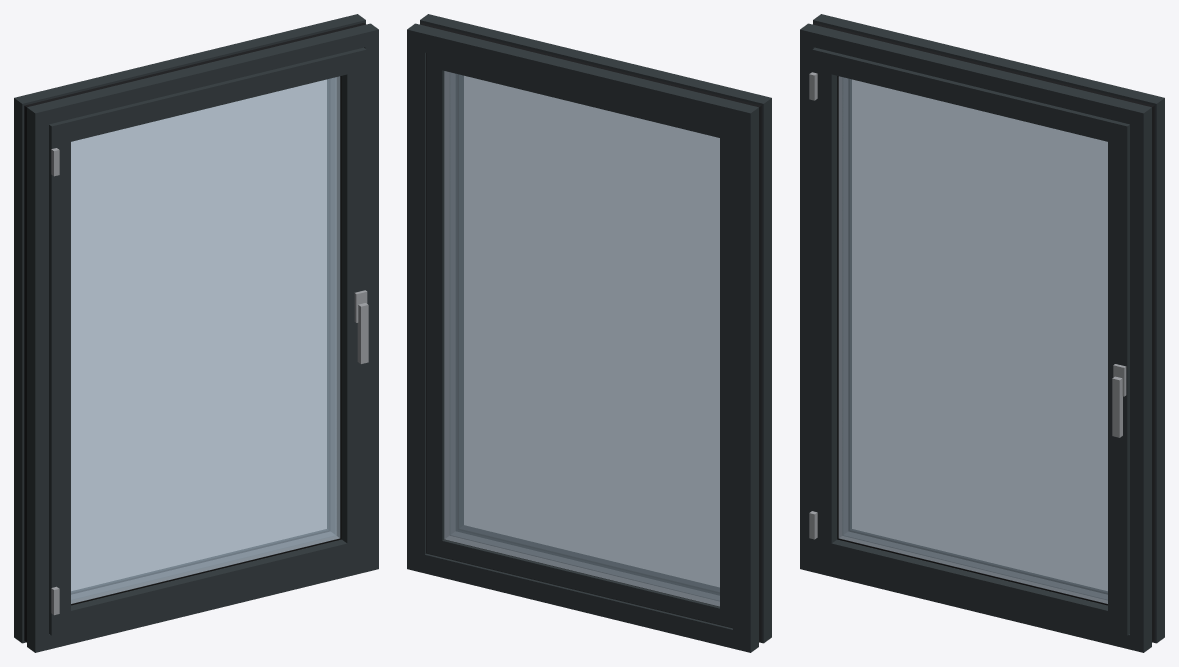
Rendered from masterline-10.glb.
3 renders of one model, left to right at view 1: azimuth 30°, elevation 25°; view 2: azimuth 150°, elevation 25°; view 3: azimuth 330°, elevation 25°, orthographic.
Parts seen in each view (by area): view 1: MasterLine 10; view 2: MasterLine 10; view 3: MasterLine 10.
Boxes of the visible parts, x1,y1,x2,y2 form: MasterLine 10: (14, 14, 378, 652); MasterLine 10: (407, 14, 771, 652); MasterLine 10: (800, 14, 1164, 652).
Bounding box in the file's own units: 1 × 1.5 × 0.141.
